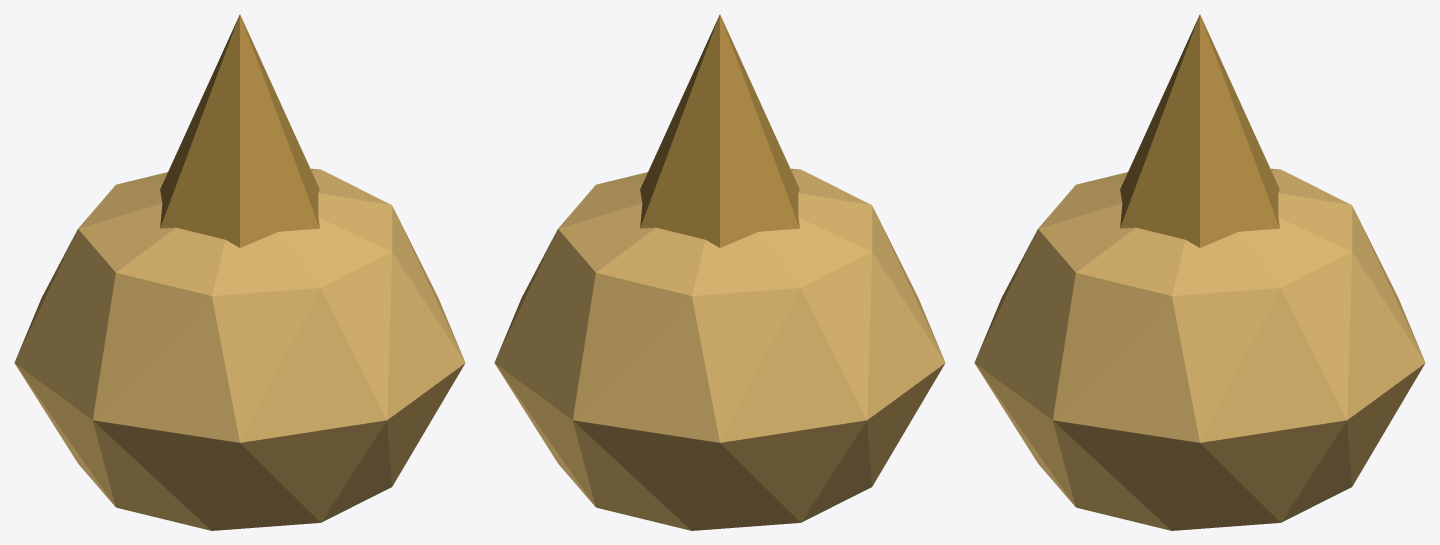
Rendered from drop_onion.glb.
The picture shows the model from 3 angles, left to right: view 1: azimuth 30°, elevation 25°; view 2: azimuth 150°, elevation 25°; view 3: azimuth 270°, elevation 25°; orthographic projection.
Visible parts, largest first — view 1: drop_onion; view 2: drop_onion; view 3: drop_onion.
Part boxes in pixels (x1,y1,x2,y2): drop_onion: [14, 14, 465, 530]; drop_onion: [494, 14, 945, 530]; drop_onion: [974, 14, 1425, 530].
Bounding box in the file's own units: 0.1358 × 0.168 × 0.1379.
